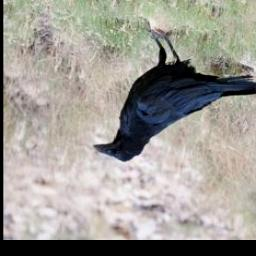Crow: (91, 23, 256, 163)
